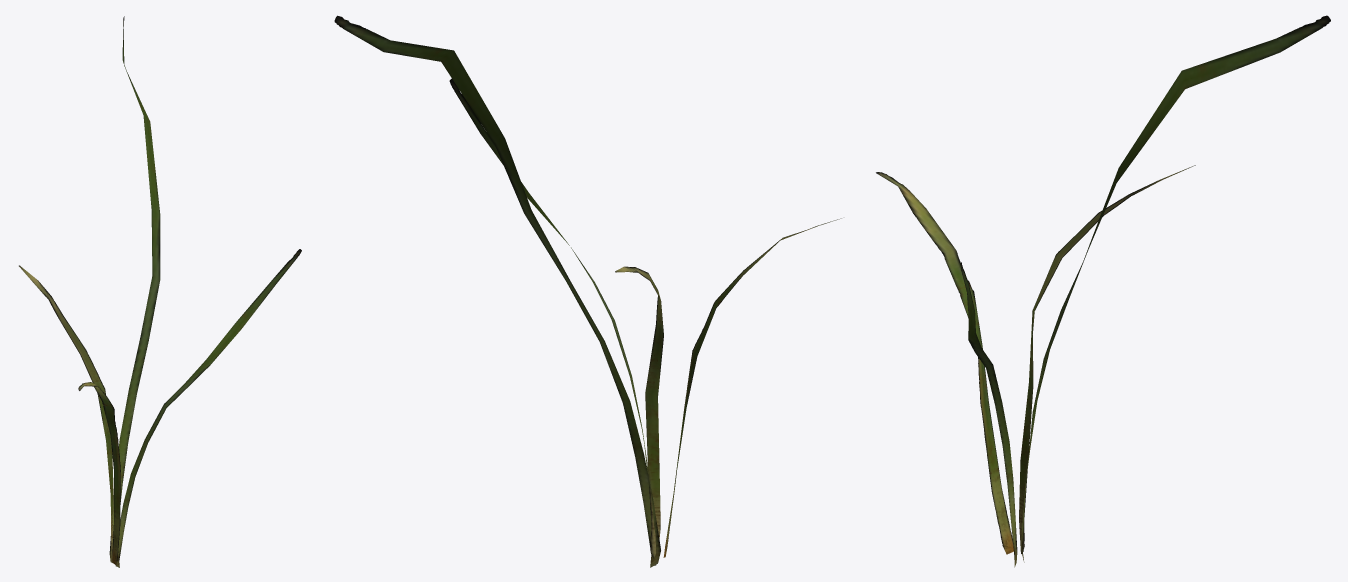
Rendered from Grass_Tiny_A.fbx.
3 renders of one model, left to right at view 1: azimuth 30°, elevation 25°; view 2: azimuth 150°, elevation 25°; view 3: azimuth 270°, elevation 25°, orthographic. The views are drawn at different scales.
Parts seen in each view (by area): view 1: Grass_Tiny_A; view 2: Grass_Tiny_A; view 3: Grass_Tiny_A.
Boxes of the visible parts, x1=… form: Grass_Tiny_A: x1=19, y1=16, x2=301, y2=567; Grass_Tiny_A: x1=334, y1=15, x2=841, y2=567; Grass_Tiny_A: x1=876, y1=15, x2=1330, y2=567.
Size of the model in its own units: 0.1018 by 0.17 by 0.1115.
1 material, 1 textured.
